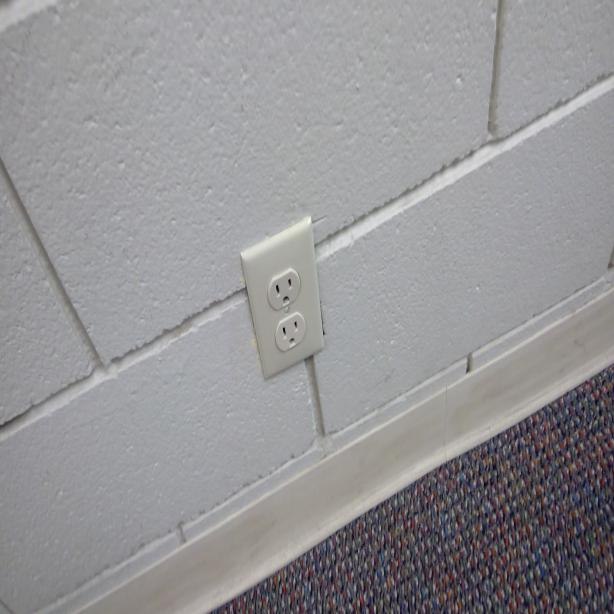typeb: (269, 270, 299, 310), (276, 318, 304, 354)
